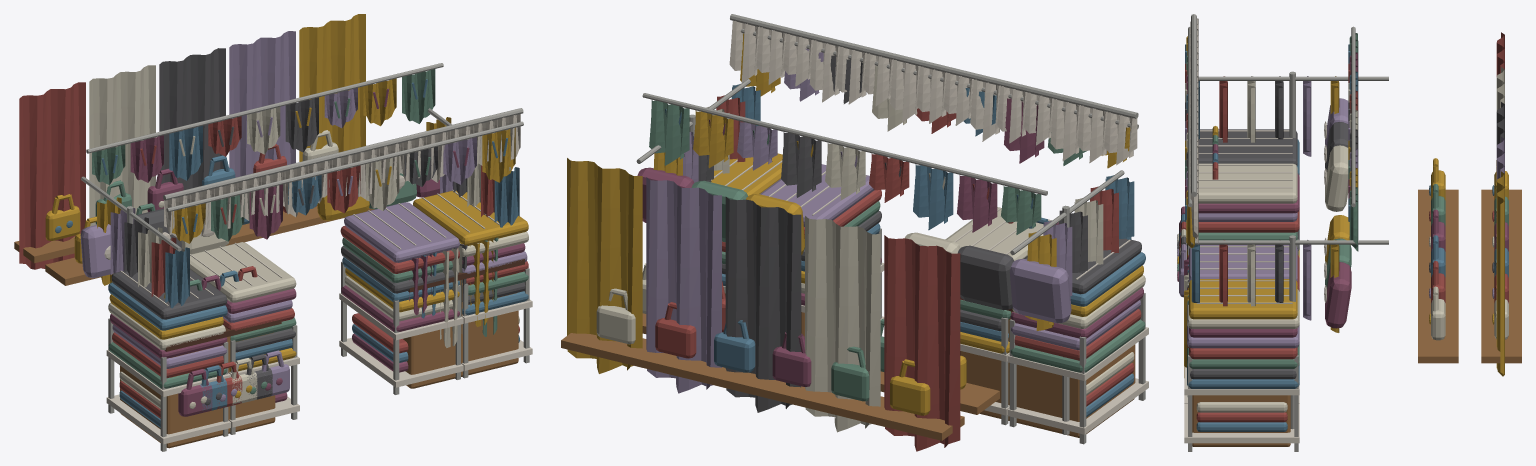
File: west.glb
The picture shows the model from 3 angles, left to right: view 1: azimuth 30°, elevation 25°; view 2: azimuth 150°, elevation 25°; view 3: azimuth 270°, elevation 25°; orthographic projection. The views are drawn at different scales.
Parts seen in each view (by area): view 1: AnHouse, Emet; view 2: AnHouse, Emet; view 3: AnHouse, Emet.
Part boxes in pixels (x1=…): AnHouse: x1=19, y1=14, x2=532, y2=451; Emet: x1=14, y1=63, x2=524, y2=448; AnHouse: x1=567, y1=14, x2=1148, y2=451; Emet: x1=561, y1=29, x2=1138, y2=440; AnHouse: x1=1184, y1=14, x2=1504, y2=451; Emet: x1=1177, y1=26, x2=1521, y2=446.
Bounding box in the file's own units: 3.51 × 2.25 × 2.72.
